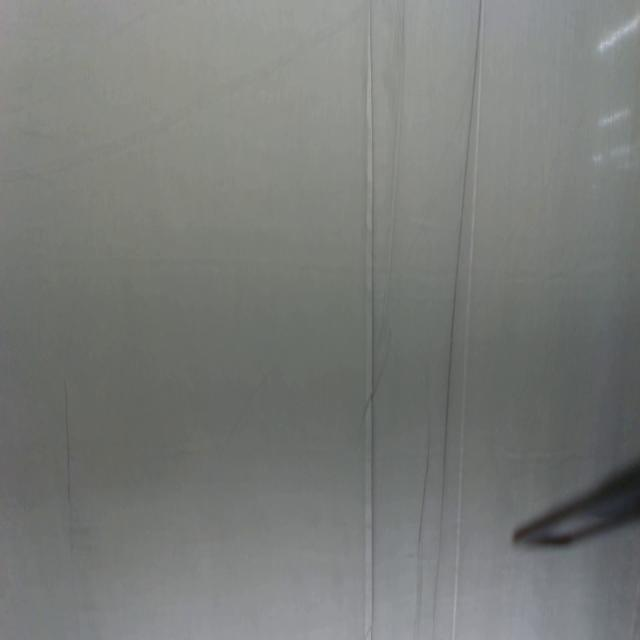crease: (430, 0, 486, 636), (365, 3, 384, 640), (410, 425, 431, 636), (61, 378, 75, 502)
